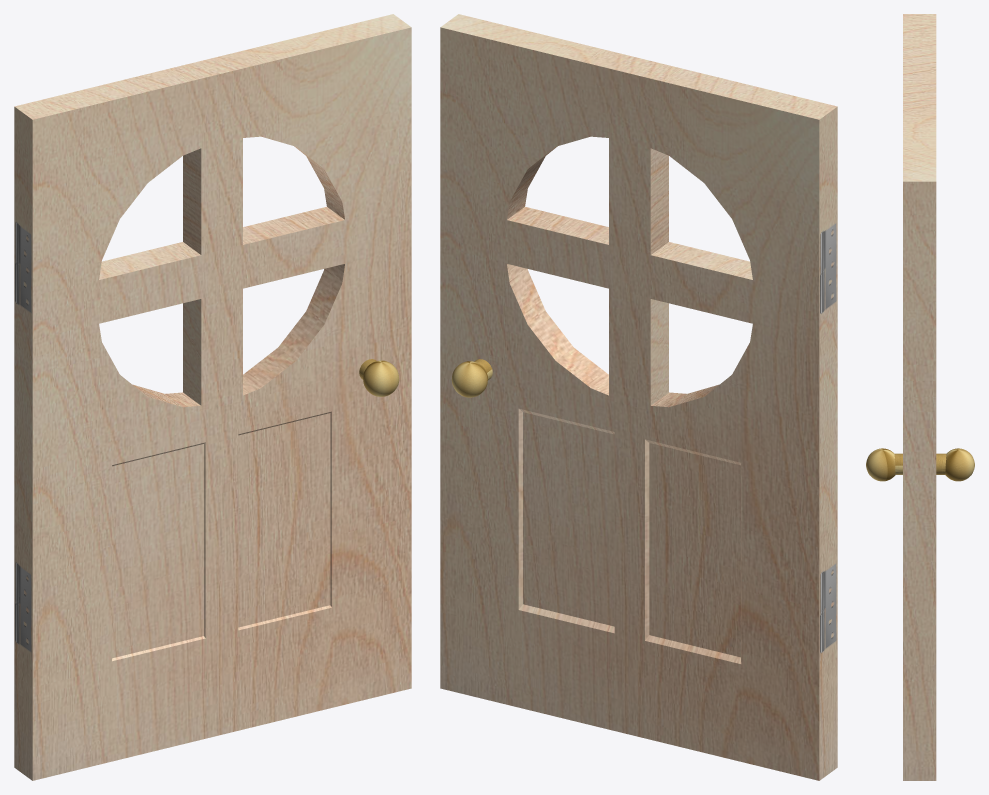
File: HC-door2.fbx
The picture shows the model from 3 angles, left to right: view 1: azimuth 30°, elevation 25°; view 2: azimuth 150°, elevation 25°; view 3: azimuth 270°, elevation 25°; orthographic projection. The views are drawn at different scales.
Parts seen in each view (by area): view 1: door, frontDoorKnob; view 2: door, backDoorKnob; view 3: door, backDoorKnob, frontDoorKnob.
Part boxes in pixels (x1,y1,x2,y2): door: (14,14,411,780); frontDoorKnob: (359,359,399,396); door: (440,14,837,780); backDoorKnob: (451,359,492,397); door: (903,14,936,780); backDoorKnob: (936,448,974,481); frontDoorKnob: (866,448,902,481).
Size of the model in its own units: 6 by 10 by 1.65.
Materials: 3 (3 with a texture image).
